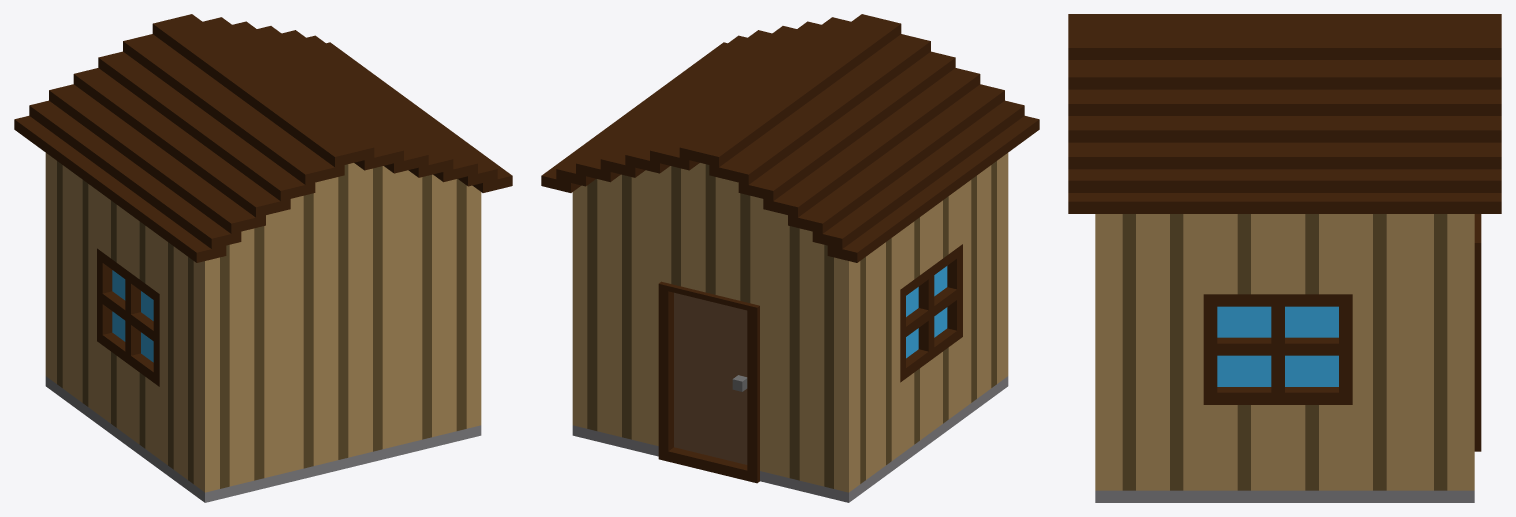
The model's file is Casa_pueblo.fbx.
The picture shows the model from 3 angles, left to right: view 1: azimuth 30°, elevation 25°; view 2: azimuth 150°, elevation 25°; view 3: azimuth 270°, elevation 25°; orthographic projection. The views are drawn at different scales.
Parts seen in each view (by area): view 1: Box_part, Box_part_1, Box_part_part_1, Box_part_part_part, Box, Box_part_1_part_part, Box_part_2_part, Box_part_1_part_1, Box_part_part, Box_part_3; view 2: Box_part_part_1, Box_part_1_part_1, Box_part, Box_part_part, Box_part_3, Box_part_1_part, Box_part_2, Box_part_1, Box_part_part_part, Box; view 3: Box_part_part, Box_part_part_part, Box_part_1_part, Box_part_1_part_part, Box_part_2, Box_part_2_part, Box_part_part_1, Box_part.
Part boxes in pixels (bbox=[...]): Box_part: bbox=[108, 87, 354, 296]; Box_part_1: bbox=[128, 333, 343, 502]; Box_part_part_1: bbox=[14, 19, 265, 239]; Box_part_part_part: bbox=[267, 83, 512, 262]; Box: bbox=[128, 240, 343, 389]; Box_part_1_part_part: bbox=[343, 322, 481, 468]; Box_part_2_part: bbox=[343, 229, 481, 355]; Box_part_1_part_1: bbox=[45, 273, 128, 446]; Box_part_part: bbox=[172, 14, 423, 111]; Box_part_3: bbox=[45, 180, 128, 332]; Box_part_part_1: bbox=[699, 83, 951, 296]; Box_part_1_part_1: bbox=[708, 328, 931, 502]; Box_part: bbox=[793, 19, 1039, 235]; Box_part_part: bbox=[541, 78, 792, 262]; Box_part_3: bbox=[708, 236, 931, 389]; Box_part_1_part: bbox=[572, 322, 713, 471]; Box_part_2: bbox=[572, 229, 713, 353]; Box_part_1: bbox=[931, 273, 1008, 441]; Box_part_part_part: bbox=[636, 14, 881, 107]; Box: bbox=[931, 180, 1008, 328]; Box_part_part: bbox=[1278, 36, 1501, 257]; Box_part_part_part: bbox=[1068, 36, 1278, 257]; Box_part_1_part: bbox=[1278, 316, 1481, 502]; Box_part_1_part_part: bbox=[1095, 362, 1278, 502]; Box_part_2: bbox=[1278, 214, 1481, 367]; Box_part_2_part: bbox=[1095, 257, 1278, 367]; Box_part_part_1: bbox=[1278, 14, 1501, 36]; Box_part: bbox=[1068, 14, 1278, 36].
Size of the model in its own units: 4096 by 4032 by 4096.
